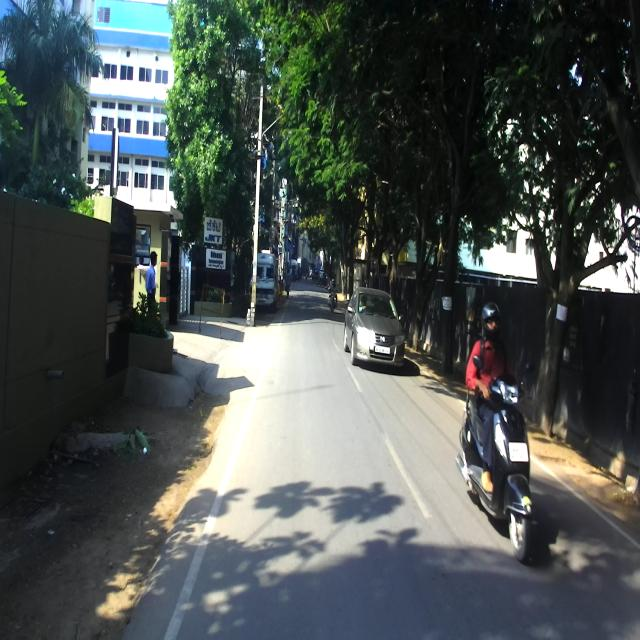car ahead at: (346, 281, 403, 368)
electric pole ahead at: (249, 72, 274, 333)
motorcycle ahead at: (462, 350, 534, 564)
